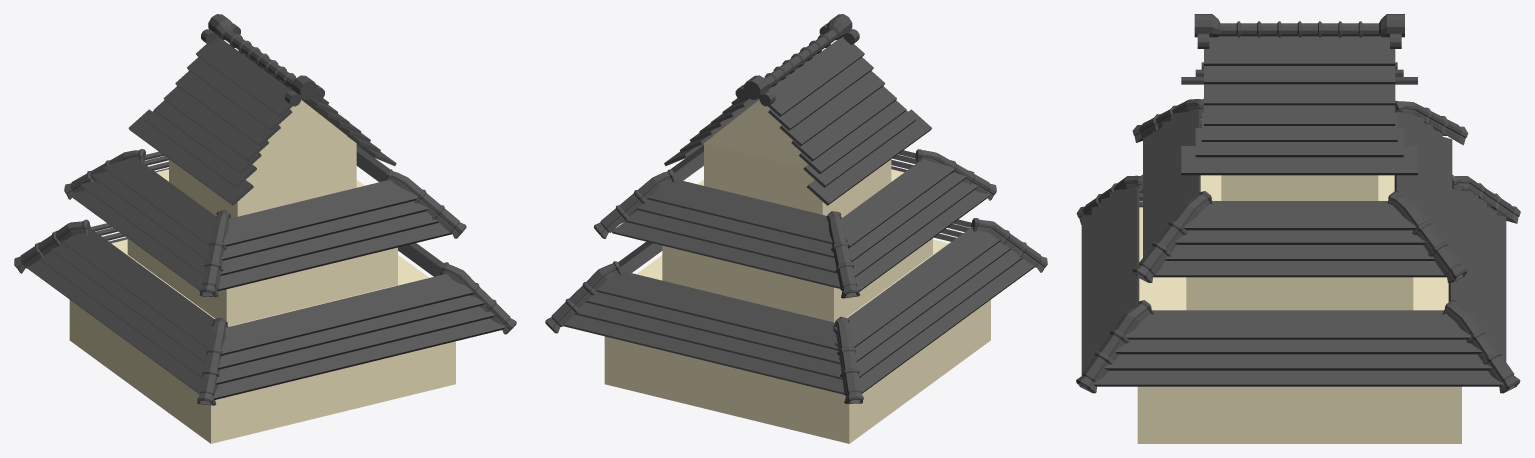
The picture shows the model from 3 angles, left to right: view 1: azimuth 30°, elevation 25°; view 2: azimuth 150°, elevation 25°; view 3: azimuth 270°, elevation 25°; orthographic projection. The views are drawn at different scales.
Parts seen in each view (by area): view 1: Cube; view 2: Cube; view 3: Cube.
Boxes of the visible parts, <box> form: Cube: <box>14,14,516,443</box>; Cube: <box>545,14,1047,443</box>; Cube: <box>1076,14,1520,443</box>.
Bounding box in the file's own units: 768 × 724 × 810.
